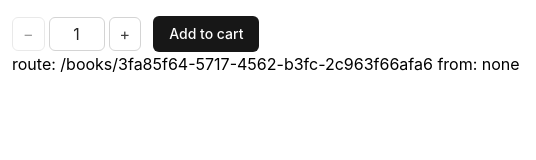
Scenario: AddToCartButton › addToCartButton_whenQuantityRaisedThenAdded_postsChosenQuantityAndResets
The width and height of the screenshot is (536, 160).
Click the button named "Increase quantity": click(125, 34) left=109, top=17, right=141, bottom=51
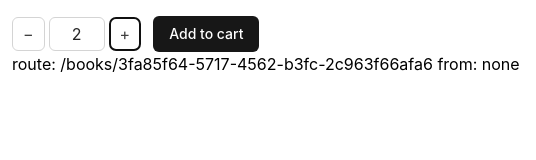
Click the button named "Increase quantity": click(125, 34) left=109, top=17, right=141, bottom=51
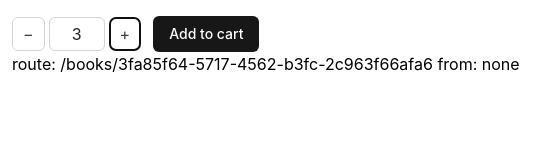
Click the button "Add to cart": click(206, 34) left=153, top=16, right=260, bottom=52
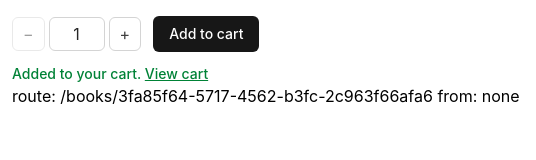
Expected: the text "Added to your cart. View cart" is shown, left=12, top=65, right=208, bottom=82
Expected: the number field named "Quantity" holds "1", left=49, top=17, right=105, bottom=51
